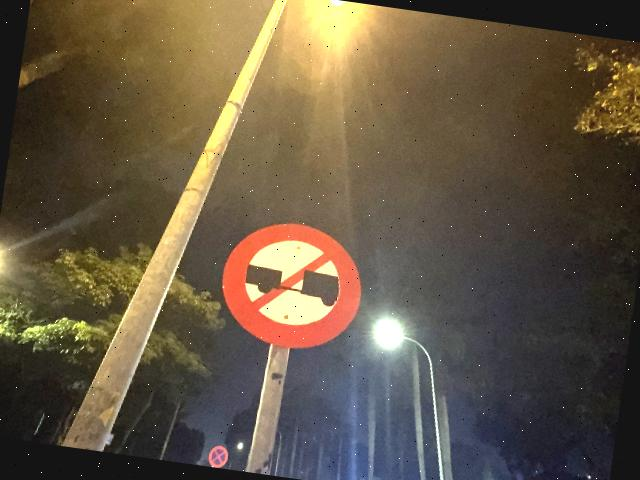cam-xe-somi-romooc: (212, 213, 370, 358)
